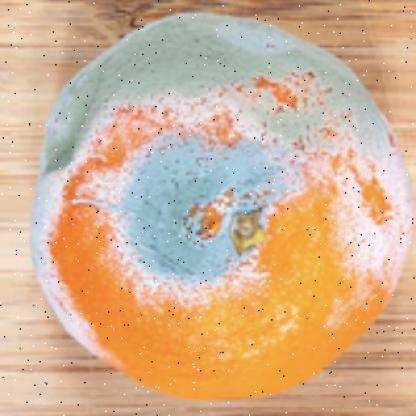rotten: (34, 13, 410, 402)
